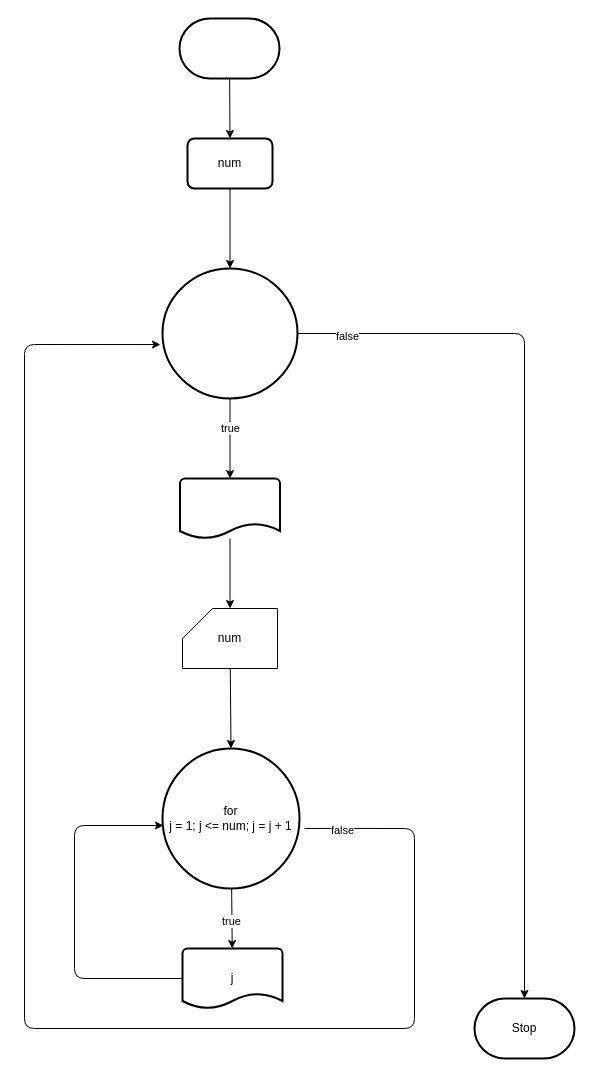
Image size: 593x1076. Some labels were removed from this diagram. The centre of each missing label's shape, as x and y in pixels:
"Enter number:": pixel 229 508
for i = 1; i <= 10; i = i +1: pixel 229 333
Start: pixel 229 48
